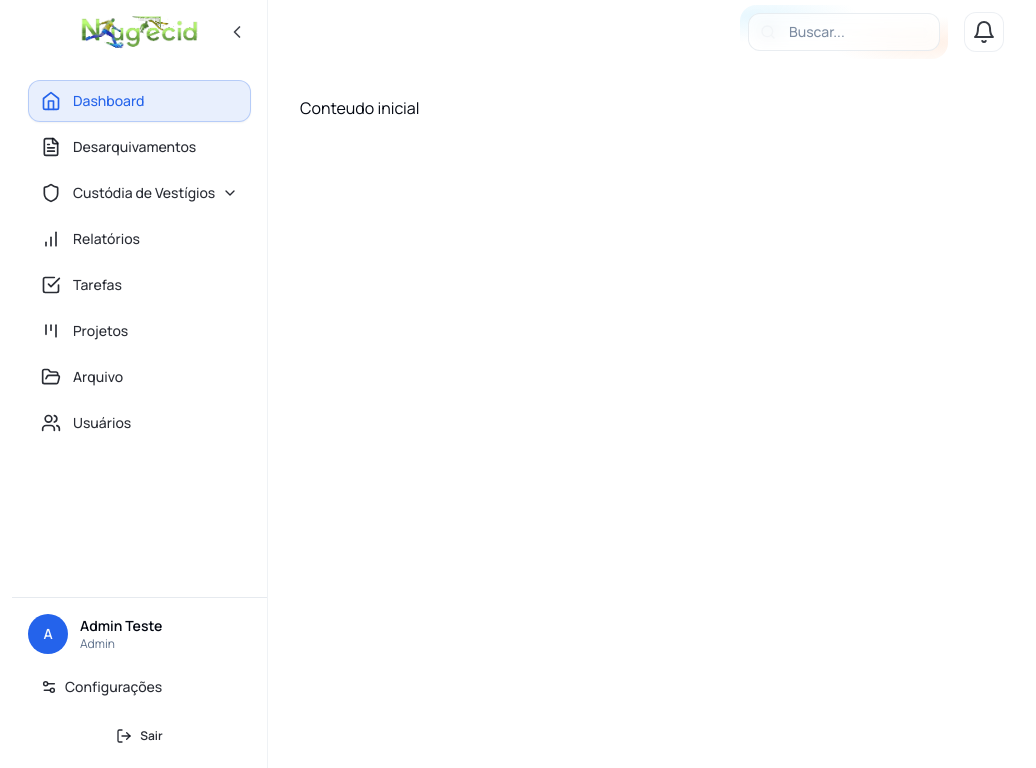
Test: Layout desktop sidebar › mostra logo compacta e cursor somente no botao ao recolher
Click the button named "Recolher barra lateral" at x=237, y=32, box [219,14,255,50]
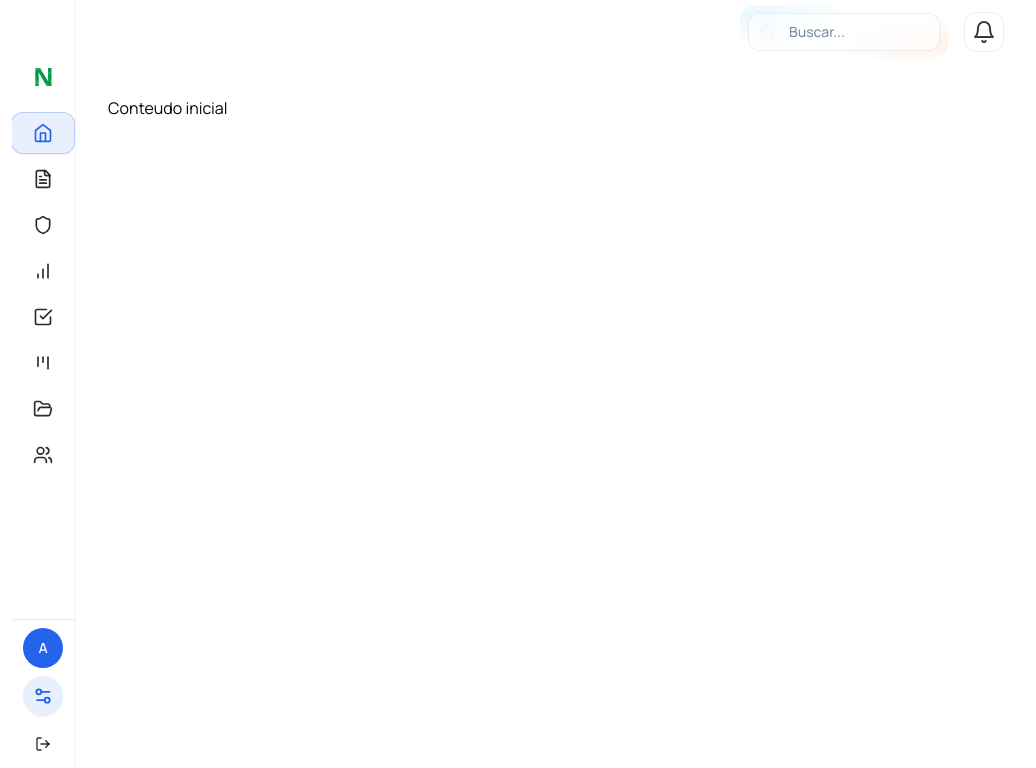
Expected: the icon "N N" is shown, [23,50,63,90]
